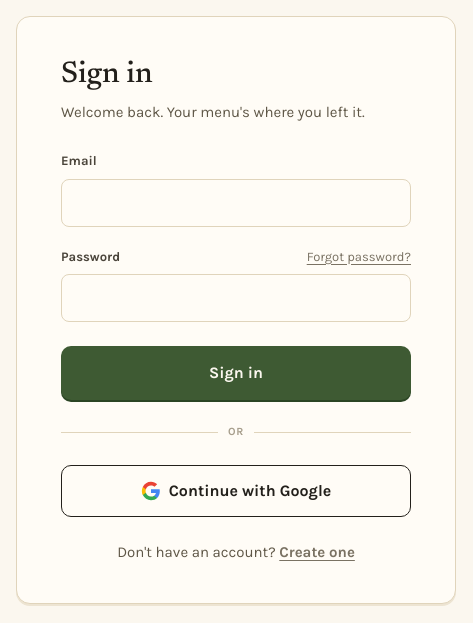
Test: links between the auth pages carry the typed email › from sign in to the forgot-password form
In the field labelled "Email": [236, 202] box [61,178,411,226], type "jamie@example.com"
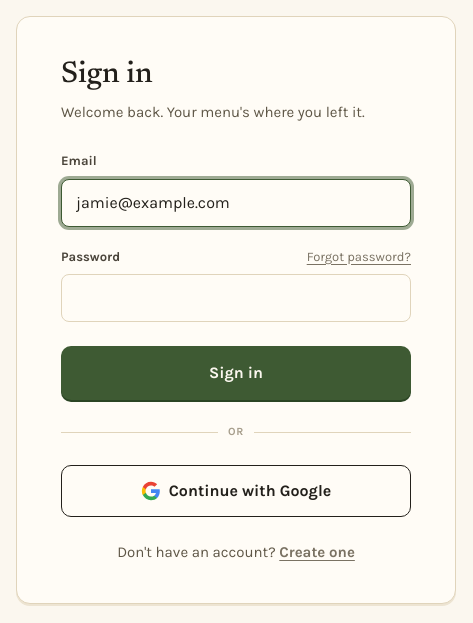
Click the link "Forgot password?": [359, 256] box [307,246,411,266]
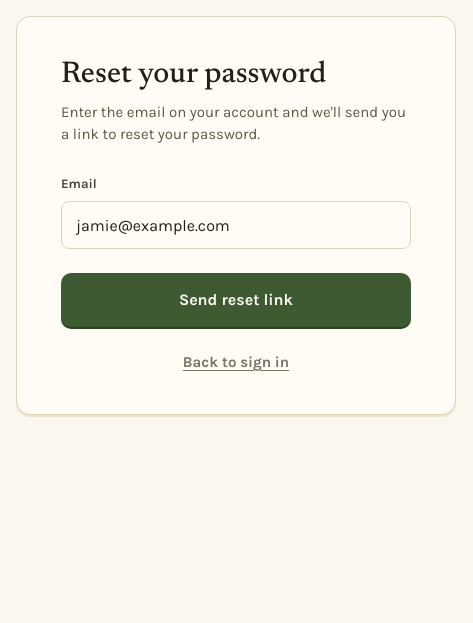
Check: the field labelled "Email" holds "jamie@example.com", box [61,201,411,249]
